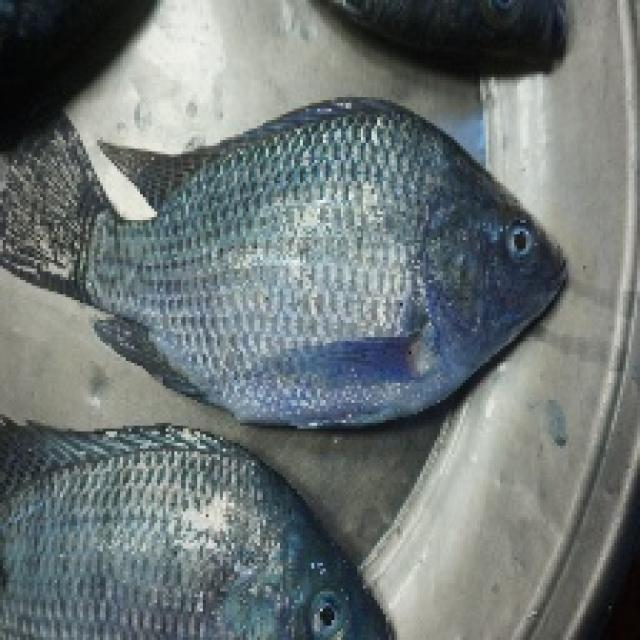Fresh: (166, 94, 577, 433), (60, 465, 385, 640)
